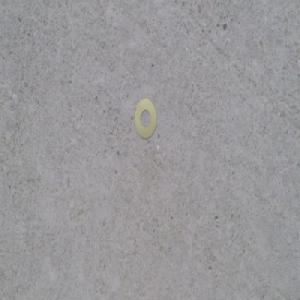Washer: (134, 96, 157, 139)
